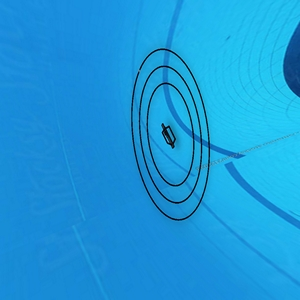circle: (129, 47, 210, 224)
submarine: (159, 124, 175, 141)
